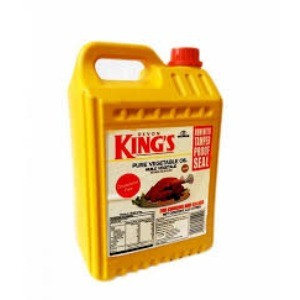vegetable oil_brain food: (72, 99, 207, 270)
